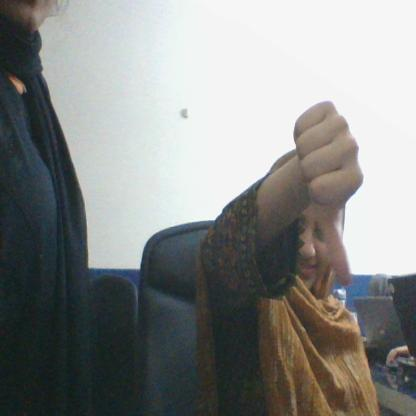thumbs-down: (292, 90, 375, 292)
